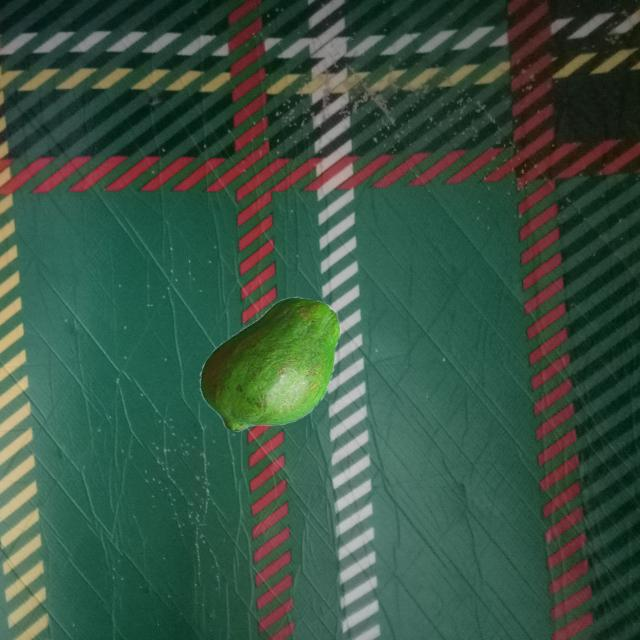Pepaya unrippen: (187, 298, 350, 435)
